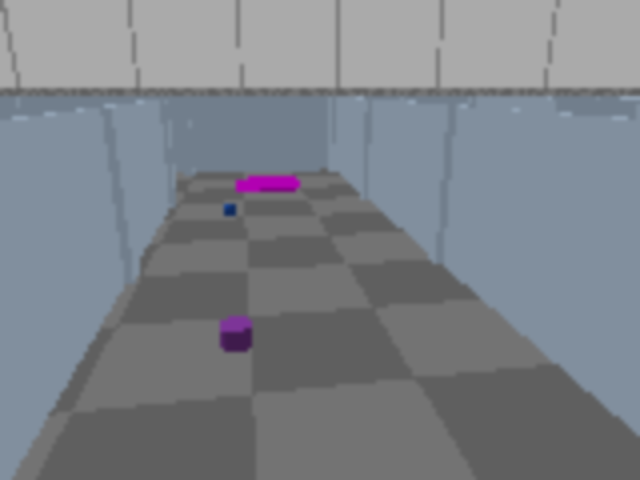goal_zone: (234, 177, 303, 192)
puck: (222, 317, 250, 352), (219, 200, 241, 220)
